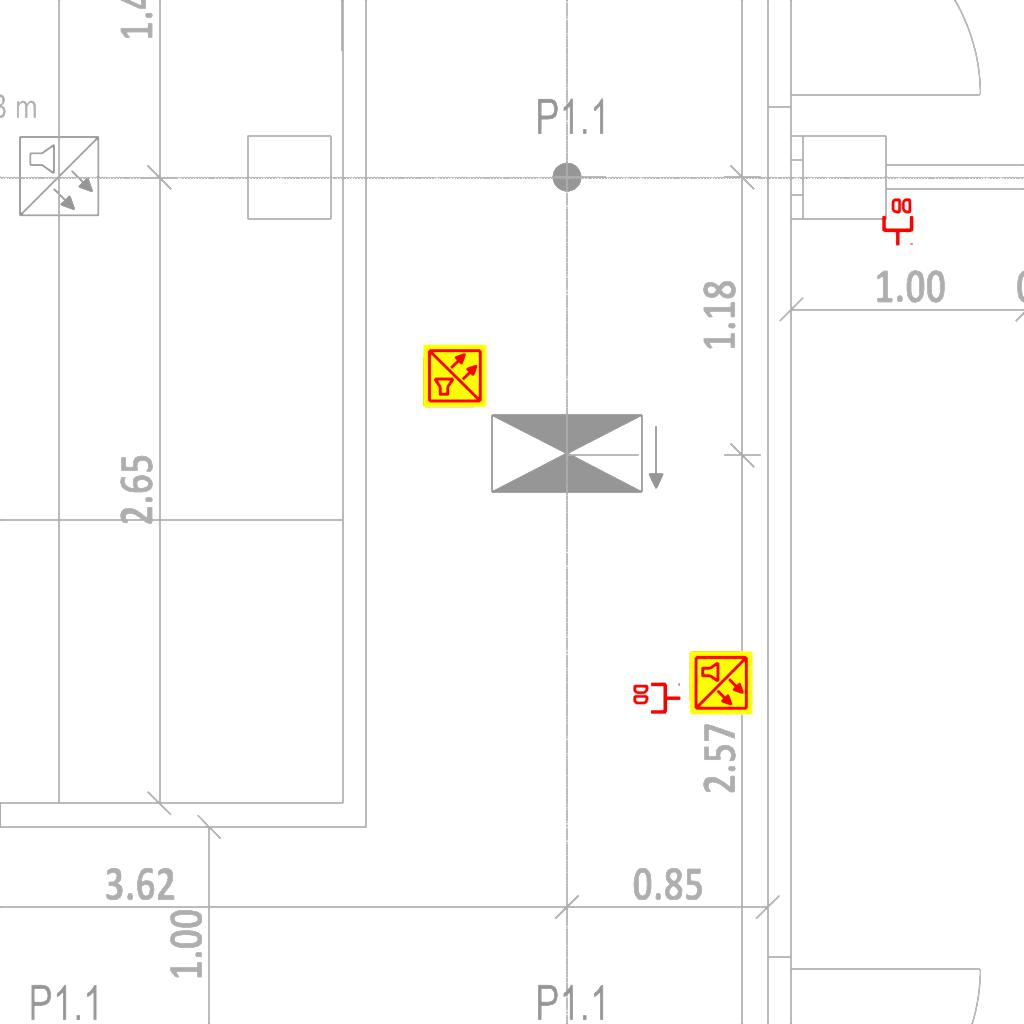Datenanschluss_zweifach: (880, 196, 914, 247), (631, 682, 682, 716)
OKW_Multisensormelder_(Kombination_optischer_Rauch-Kahlenmonoxid_Waerme-Melder): (422, 343, 488, 409), (688, 650, 754, 716)
